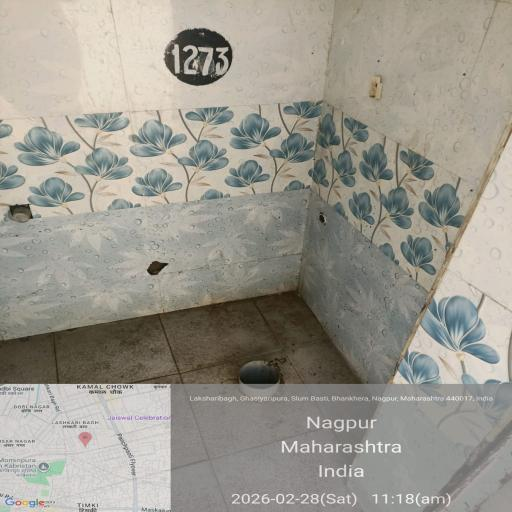dirty_floor: (11, 307, 448, 512)
